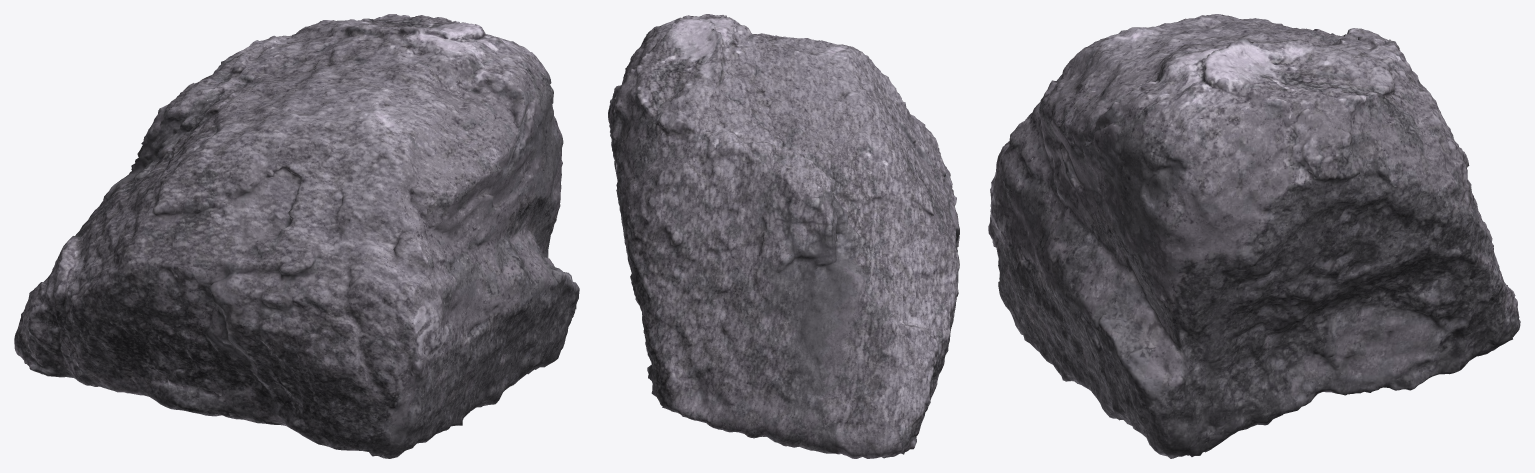
File: namaqualand_boulder_04.gltf
The picture shows the model from 3 angles, left to right: view 1: azimuth 30°, elevation 25°; view 2: azimuth 150°, elevation 25°; view 3: azimuth 270°, elevation 25°; orthographic projection. The views are drawn at different scales.
Parts seen in each view (by area): view 1: boulder_04; view 2: boulder_04; view 3: boulder_04.
Boxes of the visible parts, x1,y1,x2,y2 form: boulder_04: [14, 14, 579, 458]; boulder_04: [608, 14, 959, 458]; boulder_04: [988, 14, 1520, 458].
Bounding box in the file's own units: 2.52 × 1.9 × 2.5.
1 material, 1 textured.
